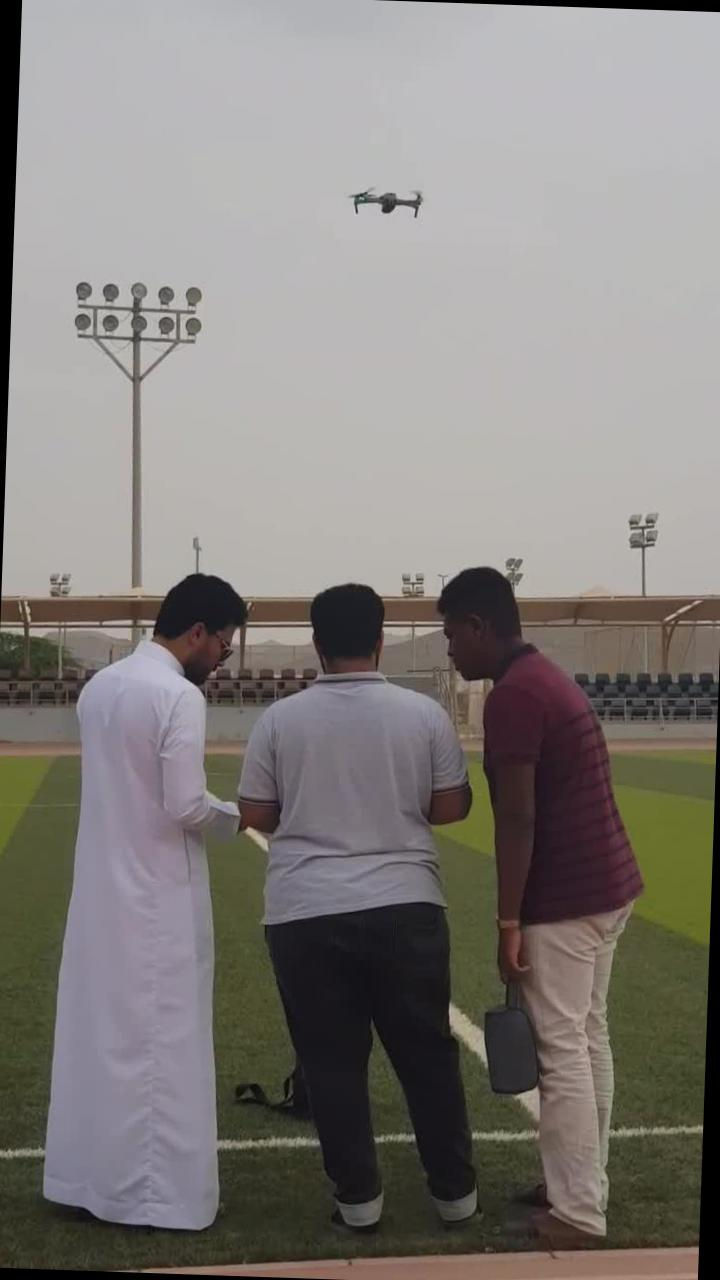drone: (346, 176, 427, 220)
